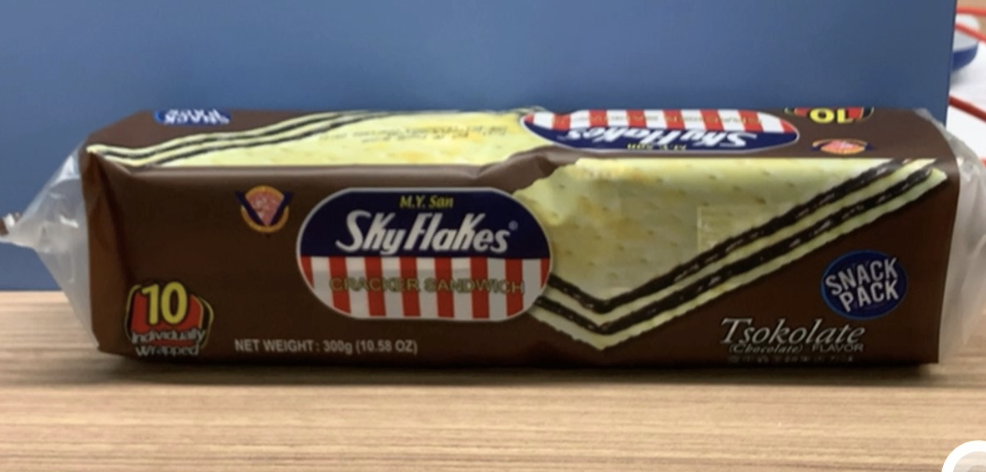crackers_300g-399g: (118, 117, 931, 363)
